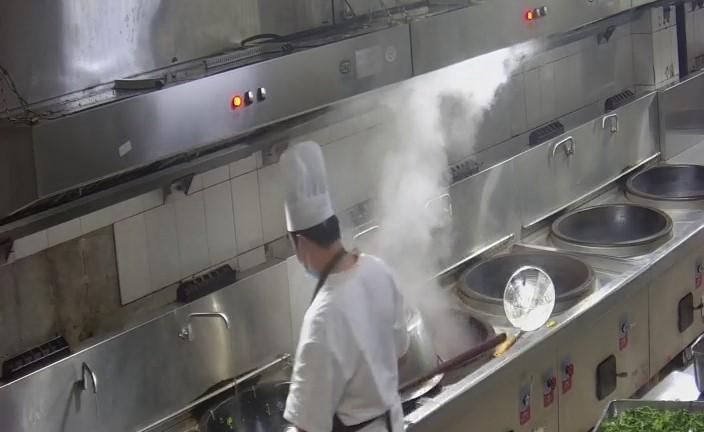mask: (285, 237, 331, 288)
